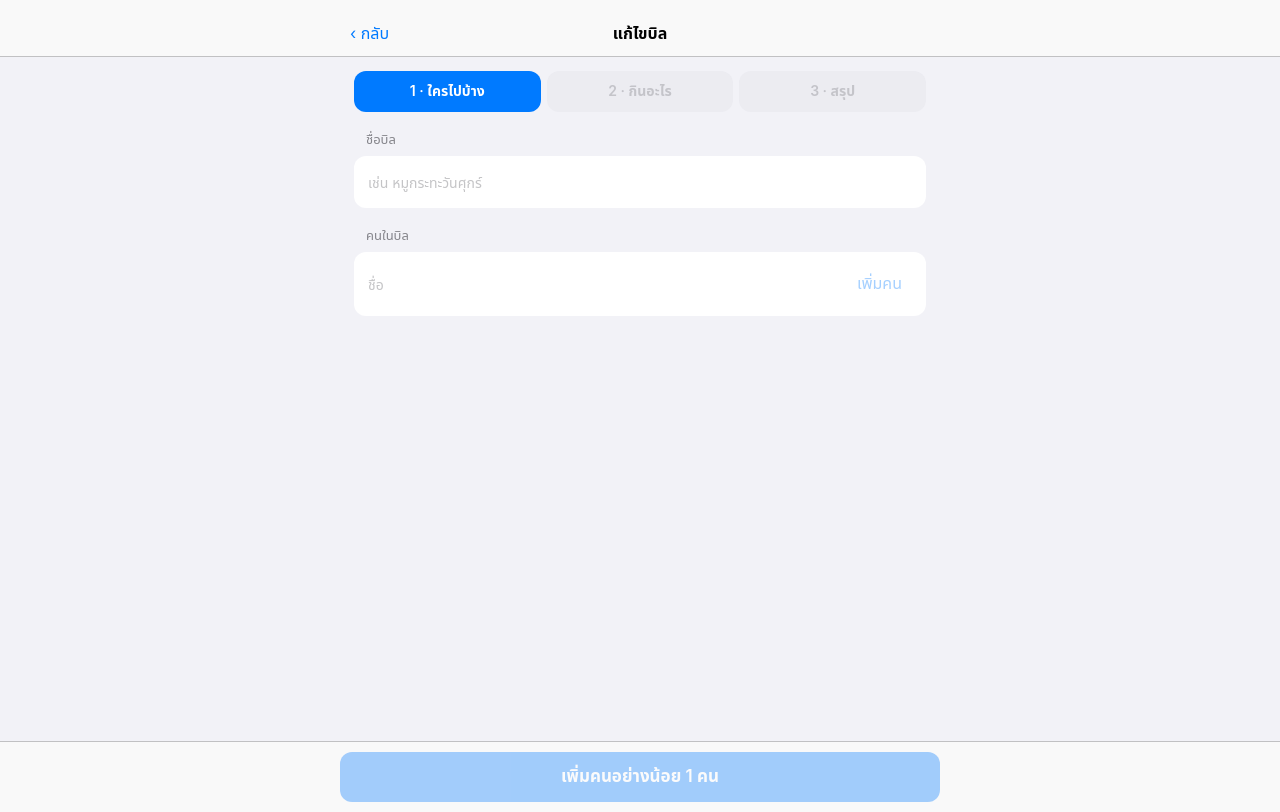
BillEditorPage › step flow: auto-adds typed person on blur, Next goes to items step, total computes
The width and height of the screenshot is (1280, 812).
Type "ต้น" into the field with placeholder "ชื่อ" at point(602, 284), box [368,268,837,300]
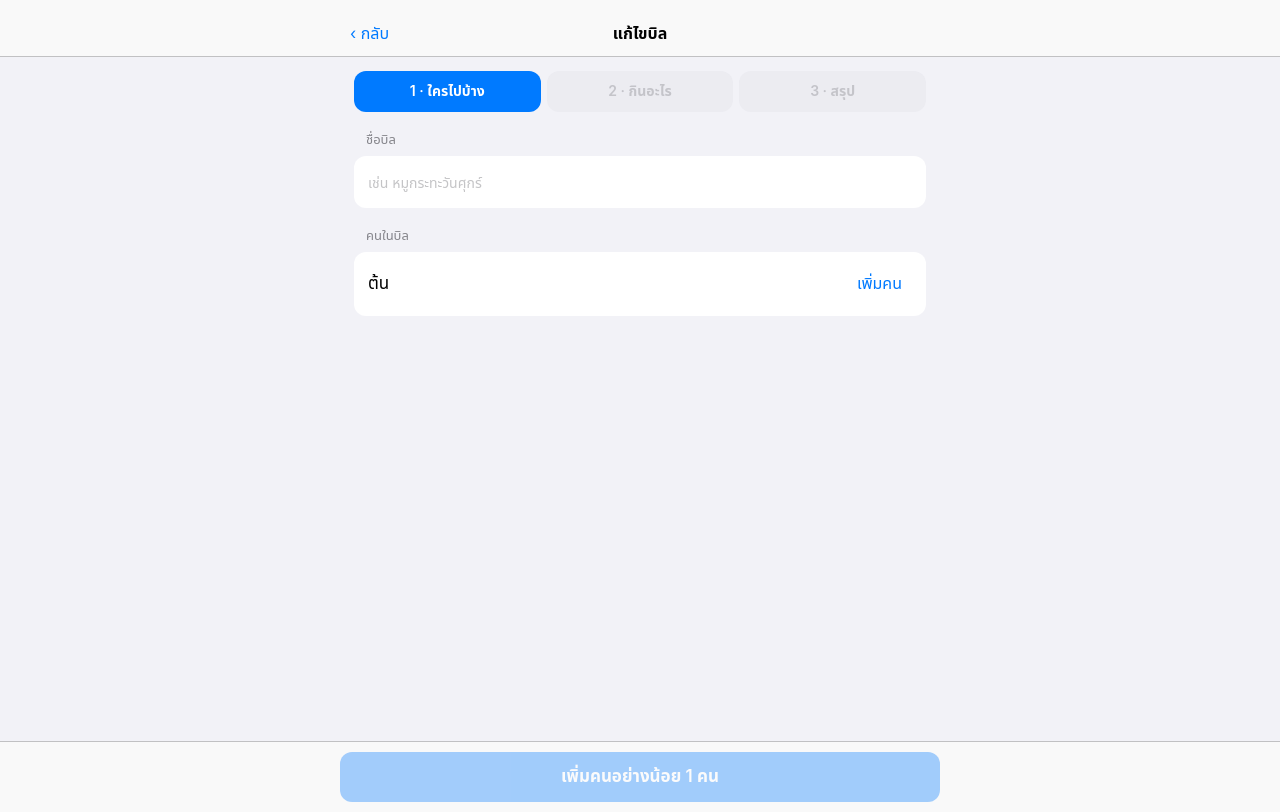
Press Tab
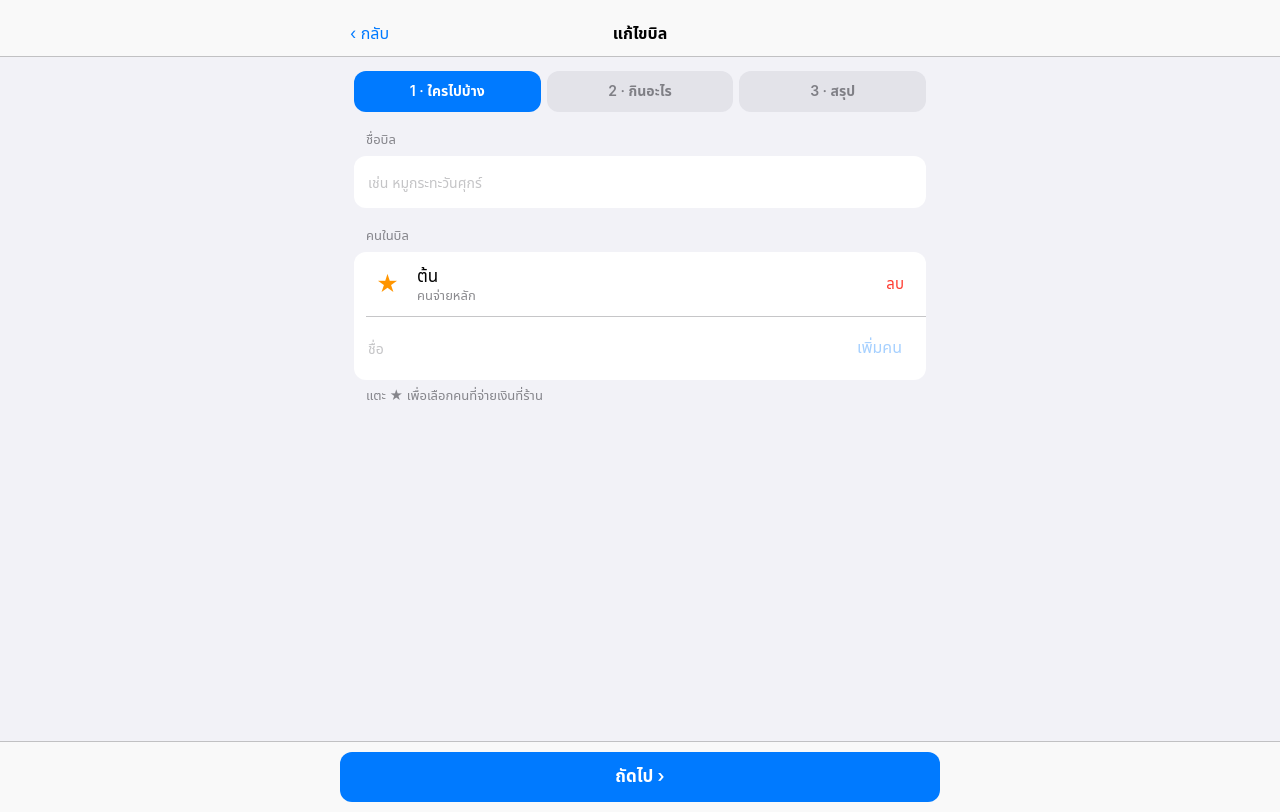
Check: the text "ต้น" is shown, box [417,266,438,286]
Click the button "ถัดไป ›" at point(640, 777), box [340,752,940,802]
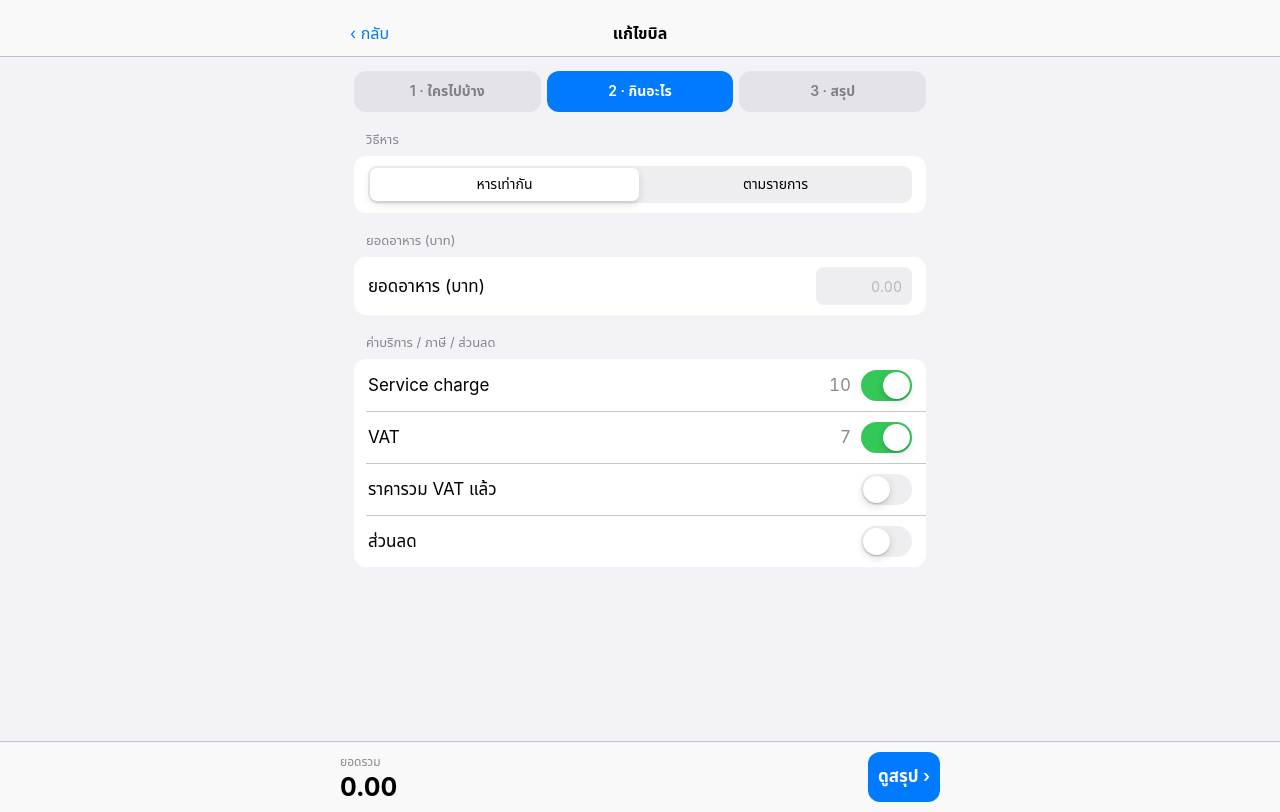
Type "1000" into the field named "ยอดอาหาร (บาท)" at point(864, 286), box [816,267,912,305]
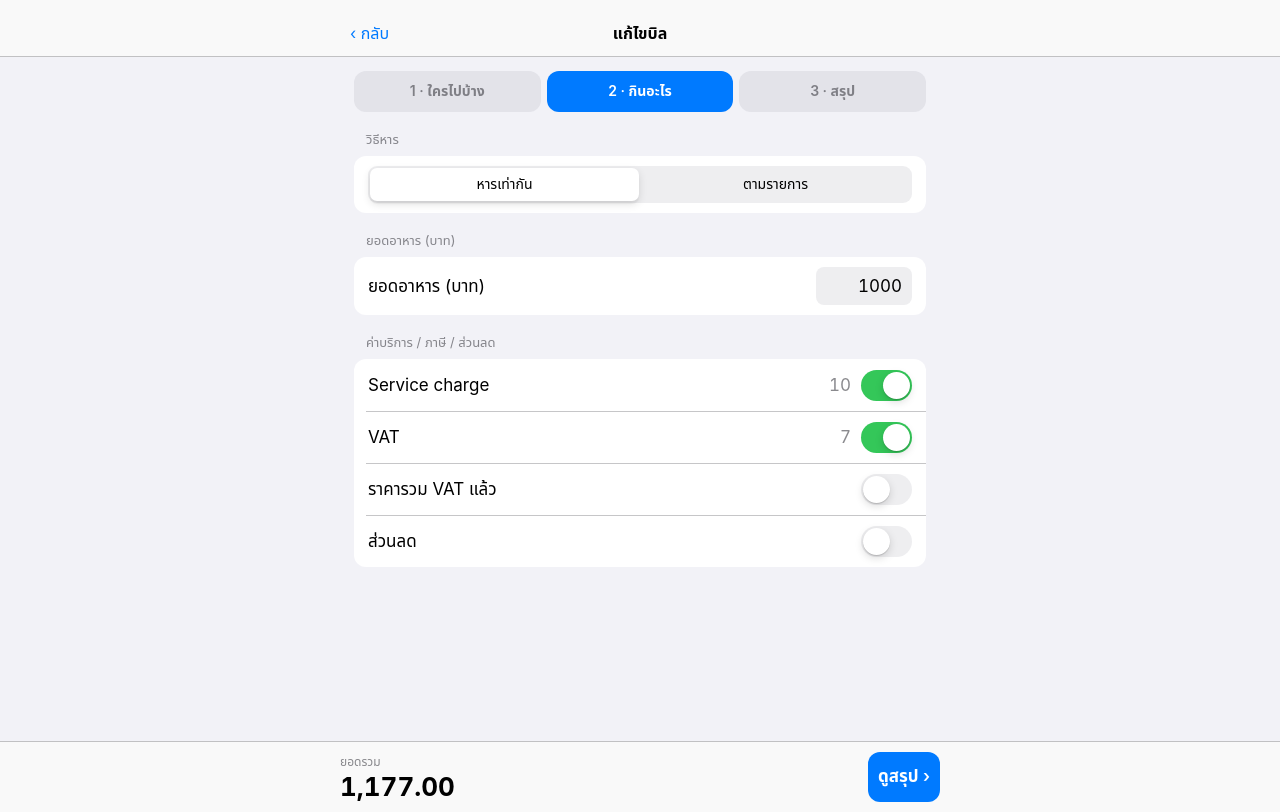
Check: the text with test id "editor-total" reads "1,177.00", box [340,770,455,802]
